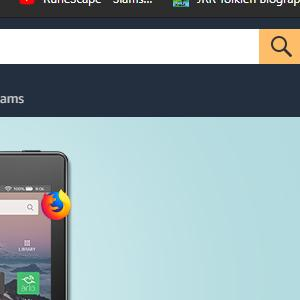firefox: (41, 188, 71, 221)
